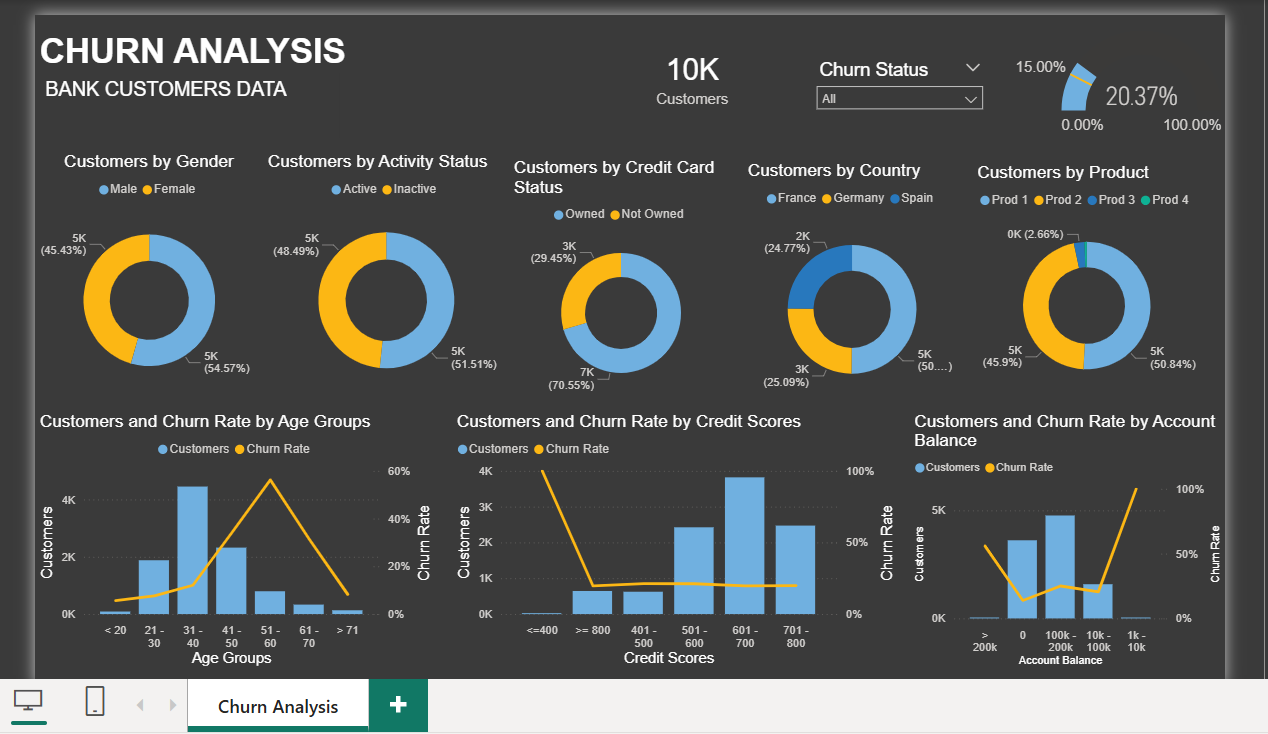

Layout of this report page (visuals, bound fields, positions):
{"tool":"powerbi","page":{"name":"Churn Analysis","canvas":[1280,720],"ordinal":0},"visuals":[{"type":"card","fields":{"Values":["Customer Data.Customers"]},"box":[566.1,0,280.6,132.3],"z":0},{"type":"donutChart","fields":{"Category":["Customer Data.Gender"],"Y":["Customer Data.Customers"]},"box":[0,146.8,245.2,269.4],"z":3},{"type":"donutChart","fields":{"Category":["Customer Data.Activity Status"],"Y":["Customer Data.Customers"]},"box":[245.2,146.8,264.5,269.4],"z":4},{"type":"donutChart","fields":{"Category":["Customer Data.Credit Card Status"],"Y":["Customer Data.Customers"]},"box":[509.7,153.2,240.3,262.9],"z":5},{"type":"donutChart","fields":{"Category":["Customer Data.Country"],"Y":["Customer Data.Customers"]},"box":[761.3,156.5,233.9,269.4],"z":6},{"type":"donutChart","fields":{"Category":["Customer Data.Product"],"Y":["Customer Data.Customers"]},"box":[1008.1,158.1,245.2,258.1],"z":7},{"type":"lineClusteredColumnComboChart","fields":{"Category":["Age Groups.Age Groups"],"Y":["Customer Data.Customers"],"Y2":["Customer Data.Churn Rate"]},"box":[0,425.8,432.3,279],"z":8},{"type":"lineClusteredColumnComboChart","fields":{"Category":["Credit Score Groups.Credit Scores"],"Y":["Customer Data.Customers"],"Y2":["Customer Data.Churn Rate"]},"box":[448.4,425.8,482.3,279],"z":9},{"type":"lineClusteredColumnComboChart","fields":{"Category":["Account Balance Groups.Account Balance"],"Y":["Customer Data.Customers"],"Y2":["Customer Data.Churn Rate"]},"box":[940.3,425.8,340.3,279],"z":10},{"type":"slicer","fields":{"Values":["Customer Data.Churn Status"]},"box":[830.6,41.9,198.4,69.4],"z":11},{"type":"gauge","fields":{"MaxValue":["Max(Customer Data.Max Churn Rate)"],"MinValue":["Min(Customer Data.Min Churn Rate)"],"TargetValue":["Max(Customer Data.Target Churn Rate)"],"Y":["Customer Data.Churn Rate"]},"box":[1043.5,0,237.1,146.8],"z":12},{"type":"textbox","box":[0,11.3,482.3,54.8],"z":13},{"type":"textbox","box":[0,62.9,327.4,69.4],"z":14}]}

Visuals, with their boxes on the page's 1280x720 design canvas (x1, y1, x2, y2). These are canvas units, not pixel positions in the 1268x734 screenshot, which may show the page scaled, cropped or inside an application window:
card - Customer Data.Customers: 566 0 847 132
donutChart - Customer Data.Gender x Customer Data.Customers: 0 147 245 416
donutChart - Customer Data.Activity Status x Customer Data.Customers: 245 147 510 416
donutChart - Customer Data.Credit Card Status x Customer Data.Customers: 510 153 750 416
donutChart - Customer Data.Country x Customer Data.Customers: 761 156 995 426
donutChart - Customer Data.Product x Customer Data.Customers: 1008 158 1253 416
lineClusteredColumnComboChart - Age Groups.Age Groups x Customer Data.Customers: 0 426 432 705
lineClusteredColumnComboChart - Credit Score Groups.Credit Scores x Customer Data.Customers: 448 426 931 705
lineClusteredColumnComboChart - Account Balance Groups.Account Balance x Customer Data.Customers: 940 426 1281 705
slicer - Customer Data.Churn Status: 831 42 1029 111
gauge - Max(Customer Data.Max Churn Rate) x Min(Customer Data.Min Churn Rate): 1044 0 1281 147
textbox: 0 11 482 66
textbox: 0 63 327 132
